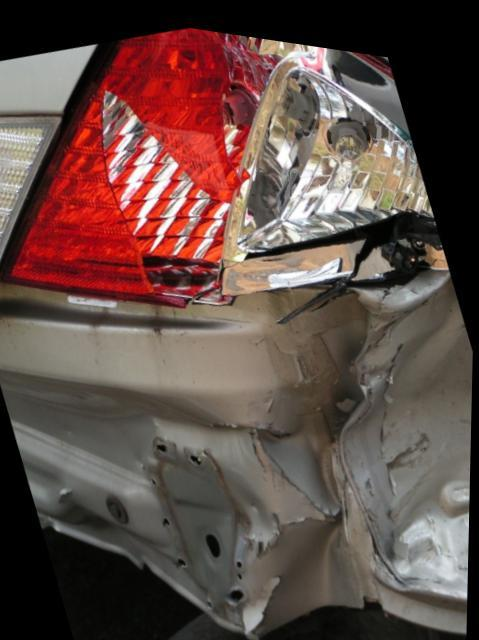dent: (345, 259, 474, 582)
lamp broken: (4, 22, 447, 299)
no part: (0, 270, 393, 627)
